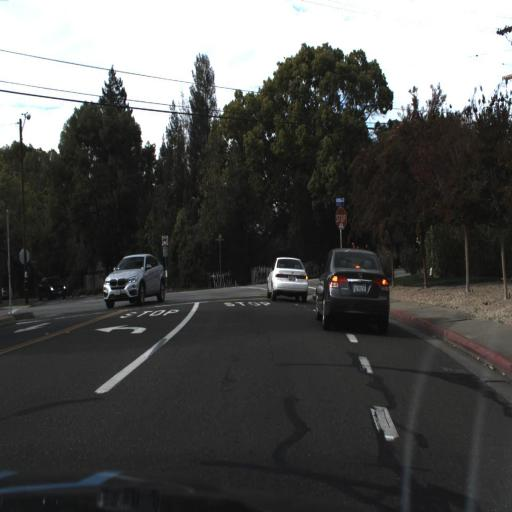car: (310, 243, 398, 336), (100, 241, 168, 313), (266, 253, 311, 307), (38, 273, 68, 305)
